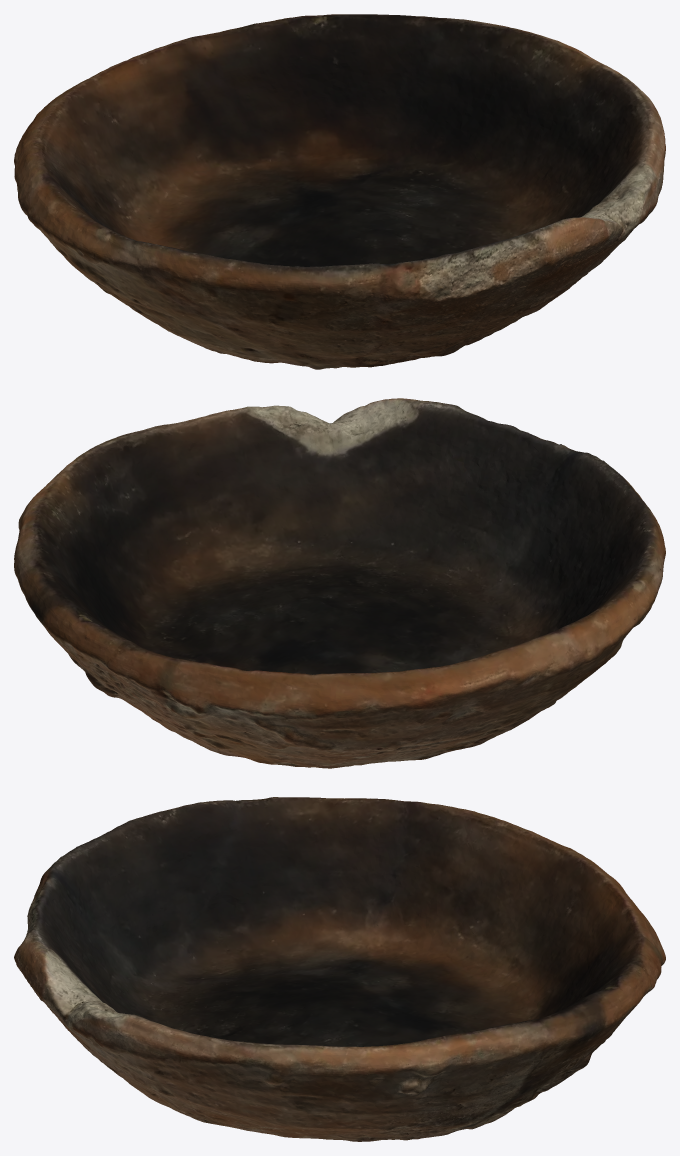
3 views of the same model, one above another, from view 1: azimuth 30°, elevation 25°; view 2: azimuth 150°, elevation 25°; view 3: azimuth 270°, elevation 25° (orthographic).
Visible parts, largest first — view 1: Mesh_0.015; view 2: Mesh_0.015; view 3: Mesh_0.015.
Part boxes in pixels (bbox=[...]): Mesh_0.015: bbox=[14, 14, 665, 369]; Mesh_0.015: bbox=[14, 398, 665, 768]; Mesh_0.015: bbox=[14, 797, 665, 1141].
Size of the model in its own units: 0.2169 by 0.0586 by 0.218.
Materials: 1 (1 with a texture image).
